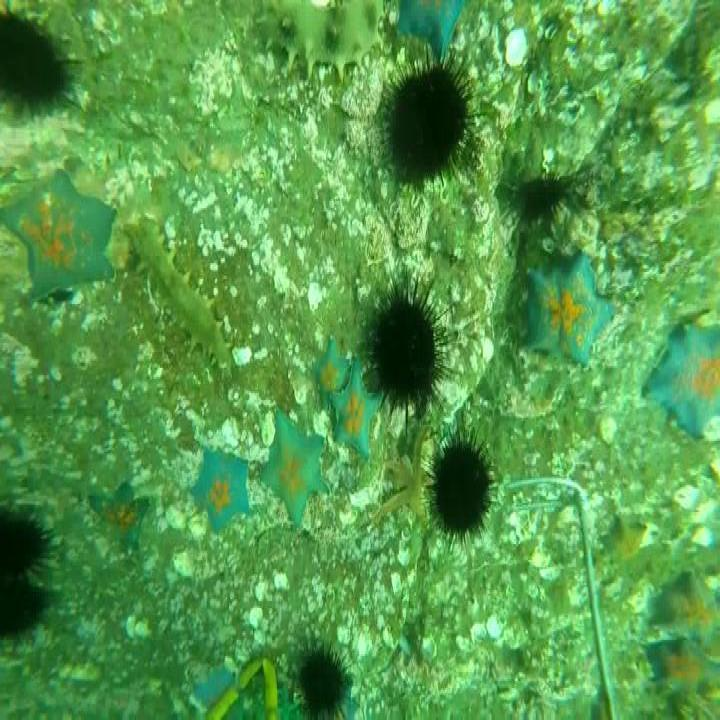echinus: (384, 52, 478, 204), (368, 272, 459, 425), (0, 9, 72, 115), (430, 437, 496, 546), (0, 507, 54, 583), (520, 176, 579, 240), (300, 642, 347, 720), (5, 560, 49, 636)
holothurian: (126, 219, 237, 377), (248, 0, 384, 76)
scallop: (171, 548, 199, 580), (163, 505, 187, 535), (673, 485, 700, 509), (261, 407, 276, 448), (486, 614, 505, 646), (690, 528, 716, 551), (419, 633, 437, 659), (599, 414, 615, 441), (469, 624, 489, 642), (230, 348, 255, 362), (247, 610, 262, 629)
starfish: (5, 175, 117, 294), (514, 250, 616, 362), (647, 318, 720, 441), (257, 416, 331, 516), (189, 450, 253, 530), (323, 369, 384, 452), (663, 571, 720, 654), (658, 649, 720, 709), (394, 0, 470, 48), (193, 663, 241, 720), (312, 345, 355, 398), (611, 509, 645, 558)
